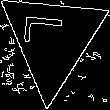L_E: (28, 22, 76, 58)
